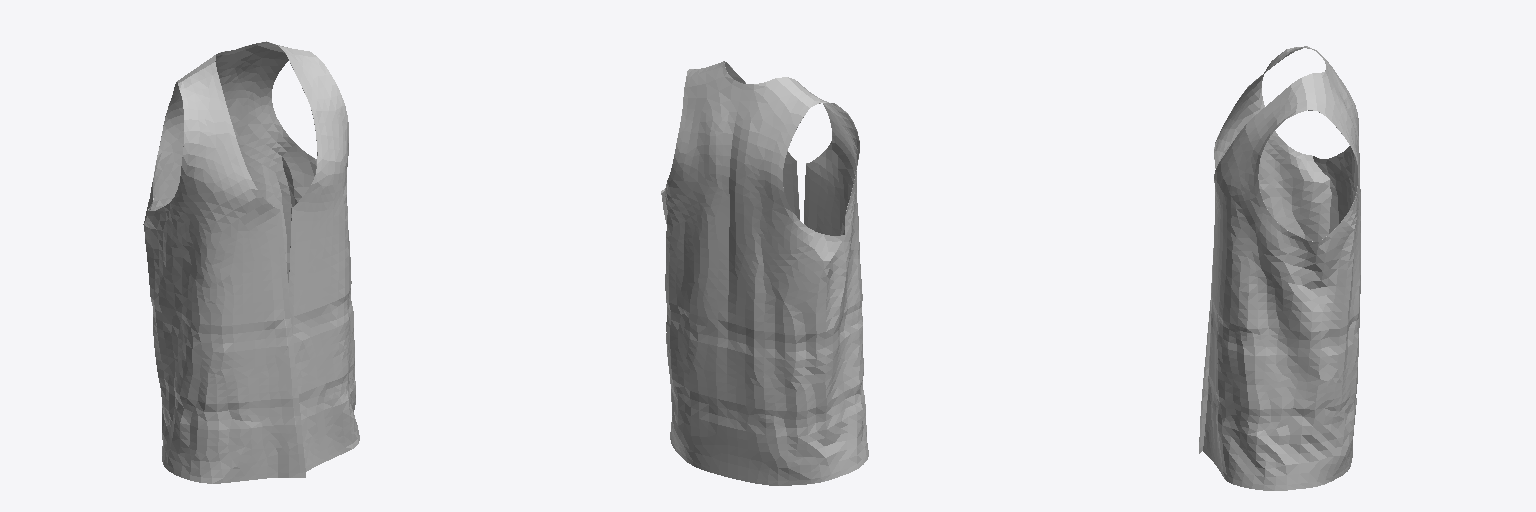
Rendered from vest.obj.
3 views of the same model, side by side, from view 1: azimuth 30°, elevation 25°; view 2: azimuth 150°, elevation 25°; view 3: azimuth 270°, elevation 25° (orthographic).
Visible parts, largest first — view 1: SafetyVest01_low; view 2: SafetyVest01_low; view 3: SafetyVest01_low.
Boxes of the visible parts, x1,y1,x2,y2 form: SafetyVest01_low: [143, 41, 359, 483]; SafetyVest01_low: [661, 61, 868, 485]; SafetyVest01_low: [1199, 46, 1360, 490].
Size of the model in its own units: 37.09 by 74.9 by 28.18.